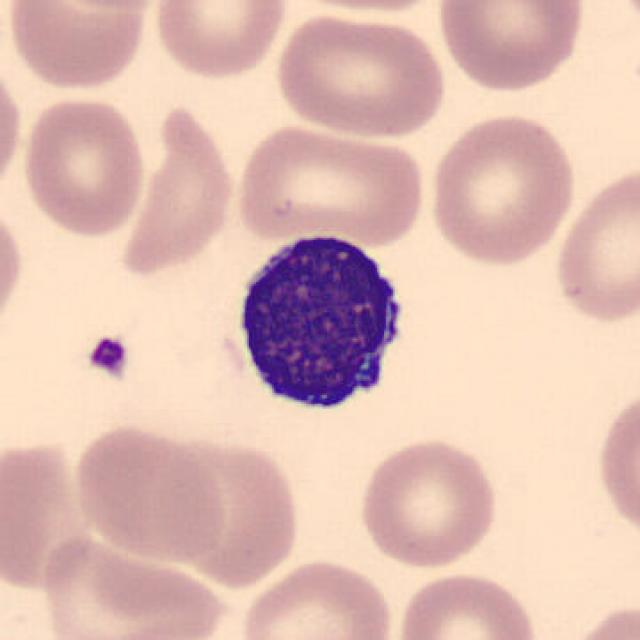Lymphocyte: (212, 221, 420, 429)
Platelets: (84, 333, 132, 383)
RBC: (231, 118, 429, 250), (425, 108, 579, 268), (270, 9, 450, 143), (69, 420, 231, 563), (116, 99, 240, 282), (160, 435, 302, 589), (32, 531, 228, 638), (354, 434, 501, 571), (16, 92, 149, 242), (0, 434, 100, 598), (550, 161, 639, 332), (432, 0, 588, 95), (3, 0, 156, 93), (235, 556, 397, 639), (151, 2, 293, 83), (393, 568, 542, 638), (596, 381, 638, 555), (274, 0, 452, 18), (564, 601, 638, 640)
